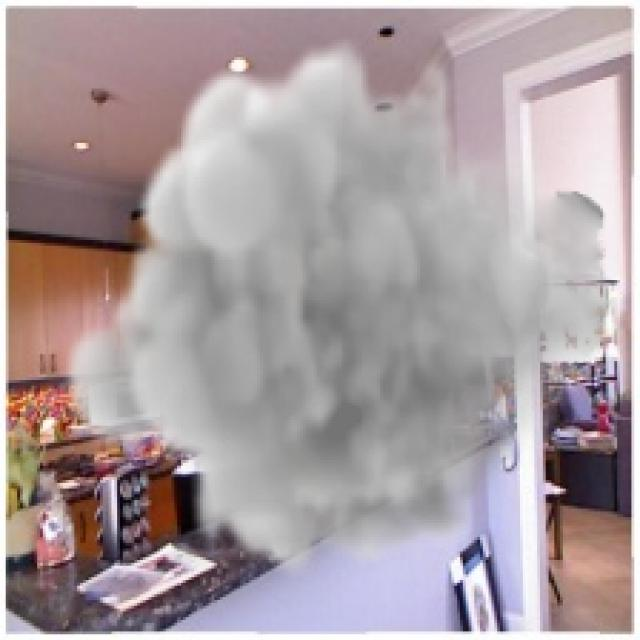smoke: (57, 37, 614, 577)
